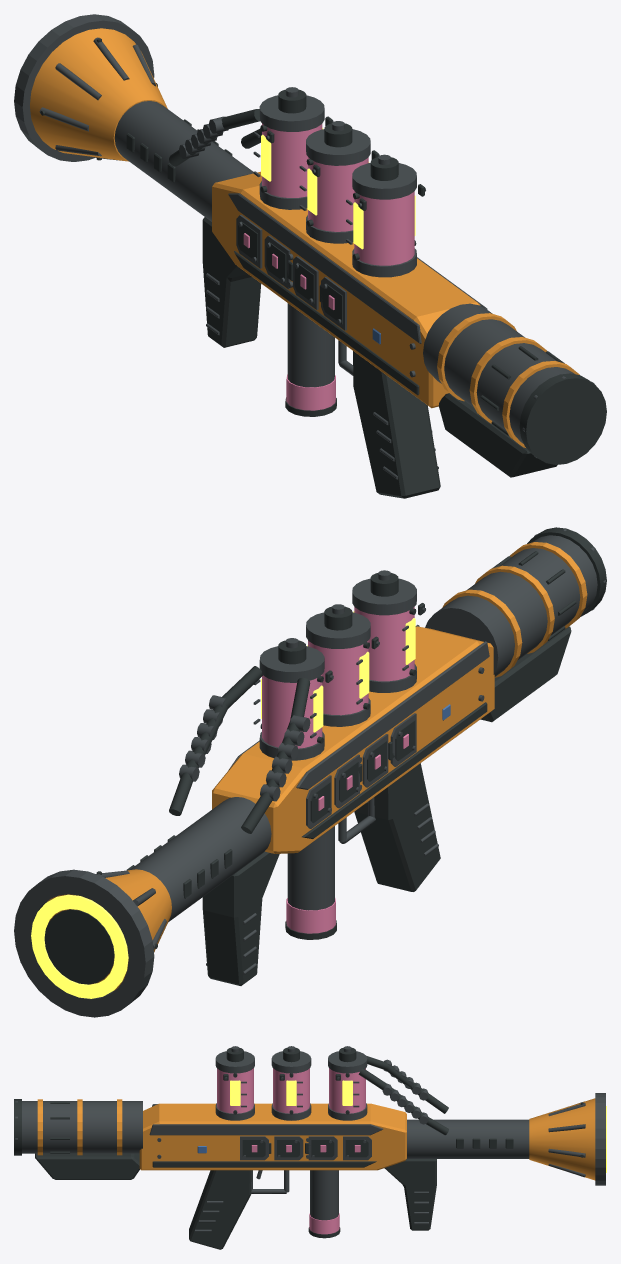
Rendered from sticky_2.glb.
3 renders of one model, top to bottom at view 1: azimuth 30°, elevation 25°; view 2: azimuth 150°, elevation 25°; view 3: azimuth 270°, elevation 25°, orthographic. The views are drawn at different scales.
Parts seen in each view (by area): view 1: Weapon_sticky_v1; view 2: Weapon_sticky_v1; view 3: Weapon_sticky_v1.
Part boxes in pixels (bbox=[...]): Weapon_sticky_v1: bbox=[14, 14, 606, 498]; Weapon_sticky_v1: bbox=[14, 527, 606, 1017]; Weapon_sticky_v1: bbox=[14, 1046, 606, 1249].
Size of the model in its own units: 0.14 by 0.3291 by 0.8975.
